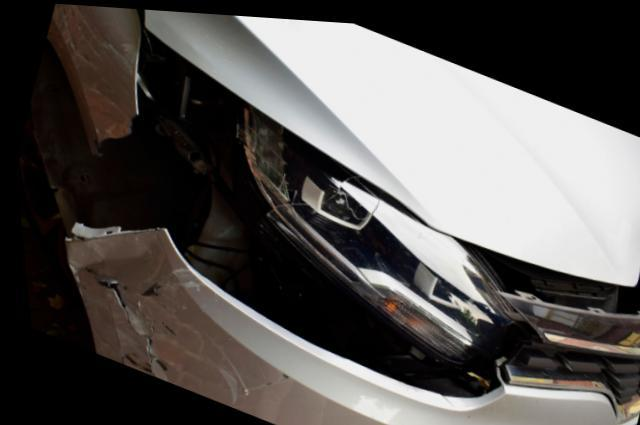crack: (91, 279, 155, 377)
dislocated part: (66, 105, 601, 425)
lamp broken: (240, 107, 504, 356)
no part: (132, 27, 263, 208)
scratch: (78, 266, 198, 380)
